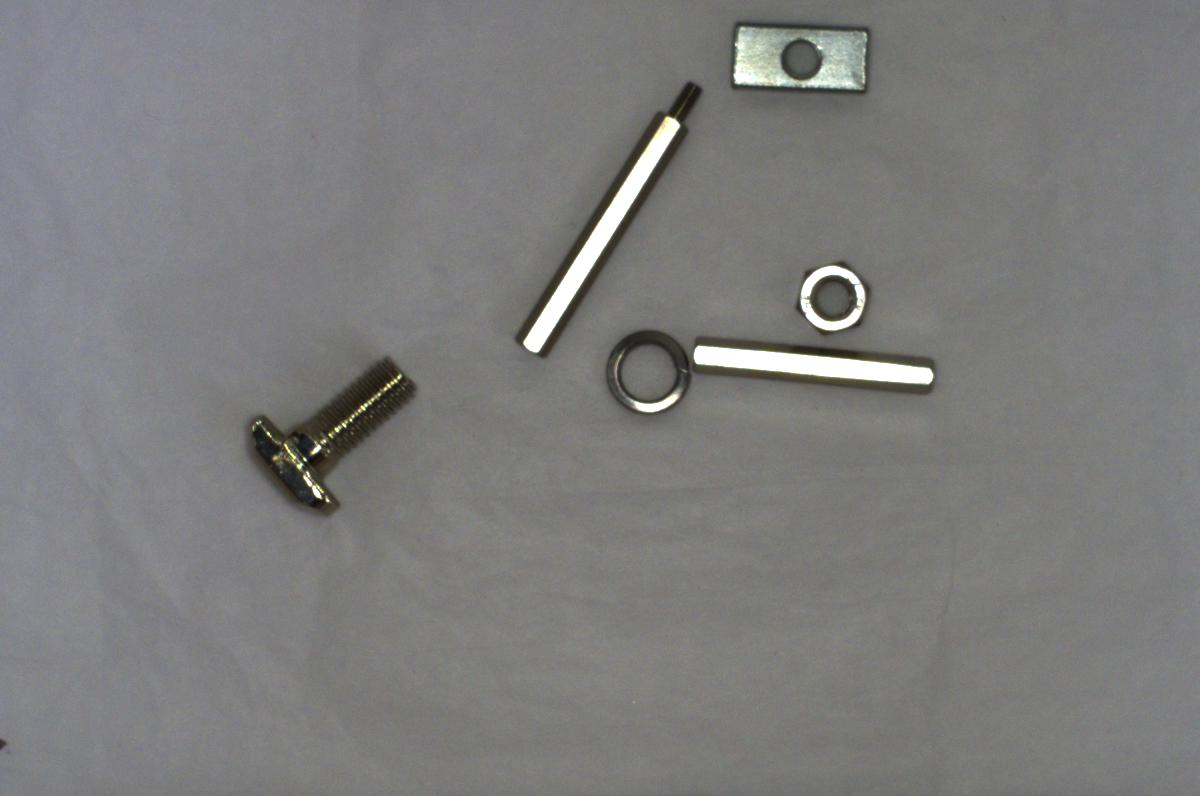Double hexagonal column: (686, 329, 940, 401)
Hexagon nut: (788, 255, 875, 338)
Hexagonal steel column: (514, 70, 704, 367)
Rectangular nut: (725, 13, 877, 102)
Spring washer: (585, 316, 706, 426)
T-shaped screw: (230, 347, 418, 514)
